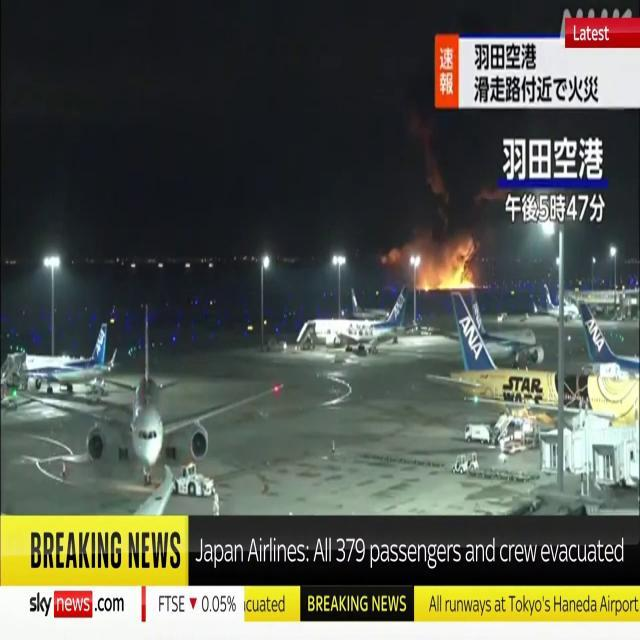Fire: (409, 251, 487, 292)
